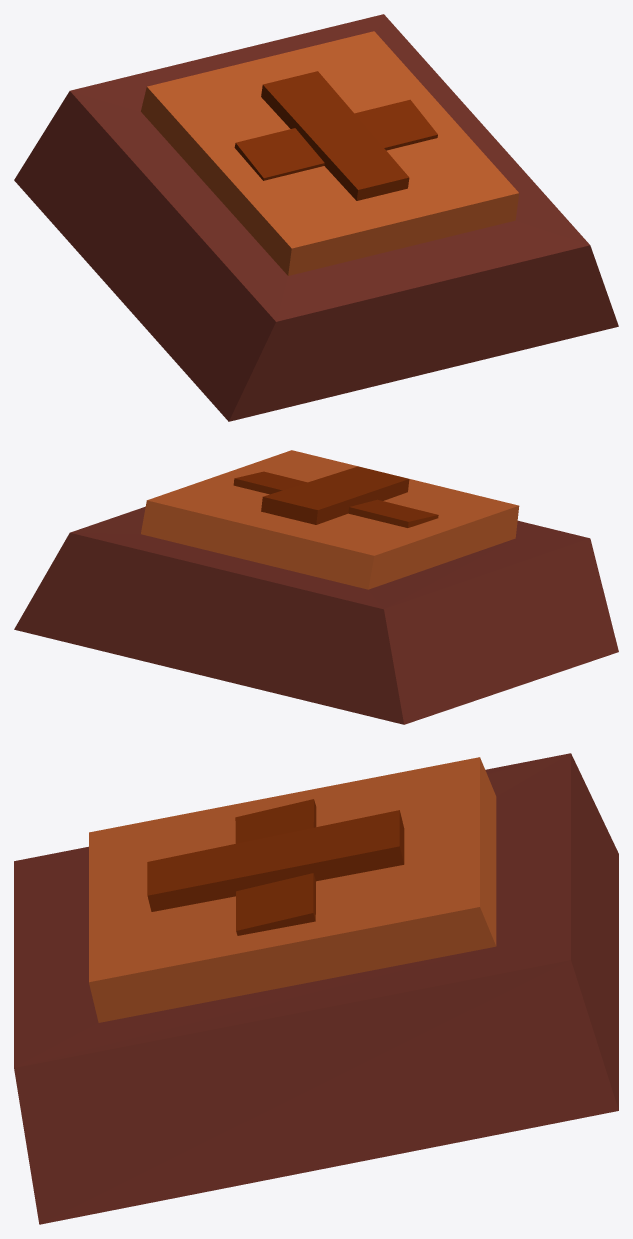
The model's file is Poleyn 06.FBX.
3 views of the same model, one above another, from view 1: azimuth 30°, elevation 25°; view 2: azimuth 150°, elevation 25°; view 3: azimuth 270°, elevation 25° (orthographic). The views are drawn at different scales.
Visible parts, largest first — view 1: Poleyn 06; view 2: Poleyn 06; view 3: Poleyn 06.
Part boxes in pixels (<box>): Poleyn 06: <box>14,14,618,421</box>; Poleyn 06: <box>14,450,618,724</box>; Poleyn 06: <box>14,753,618,1224</box>.
Bounding box in the file's own units: 12.82 × 6.24 × 12.76.
